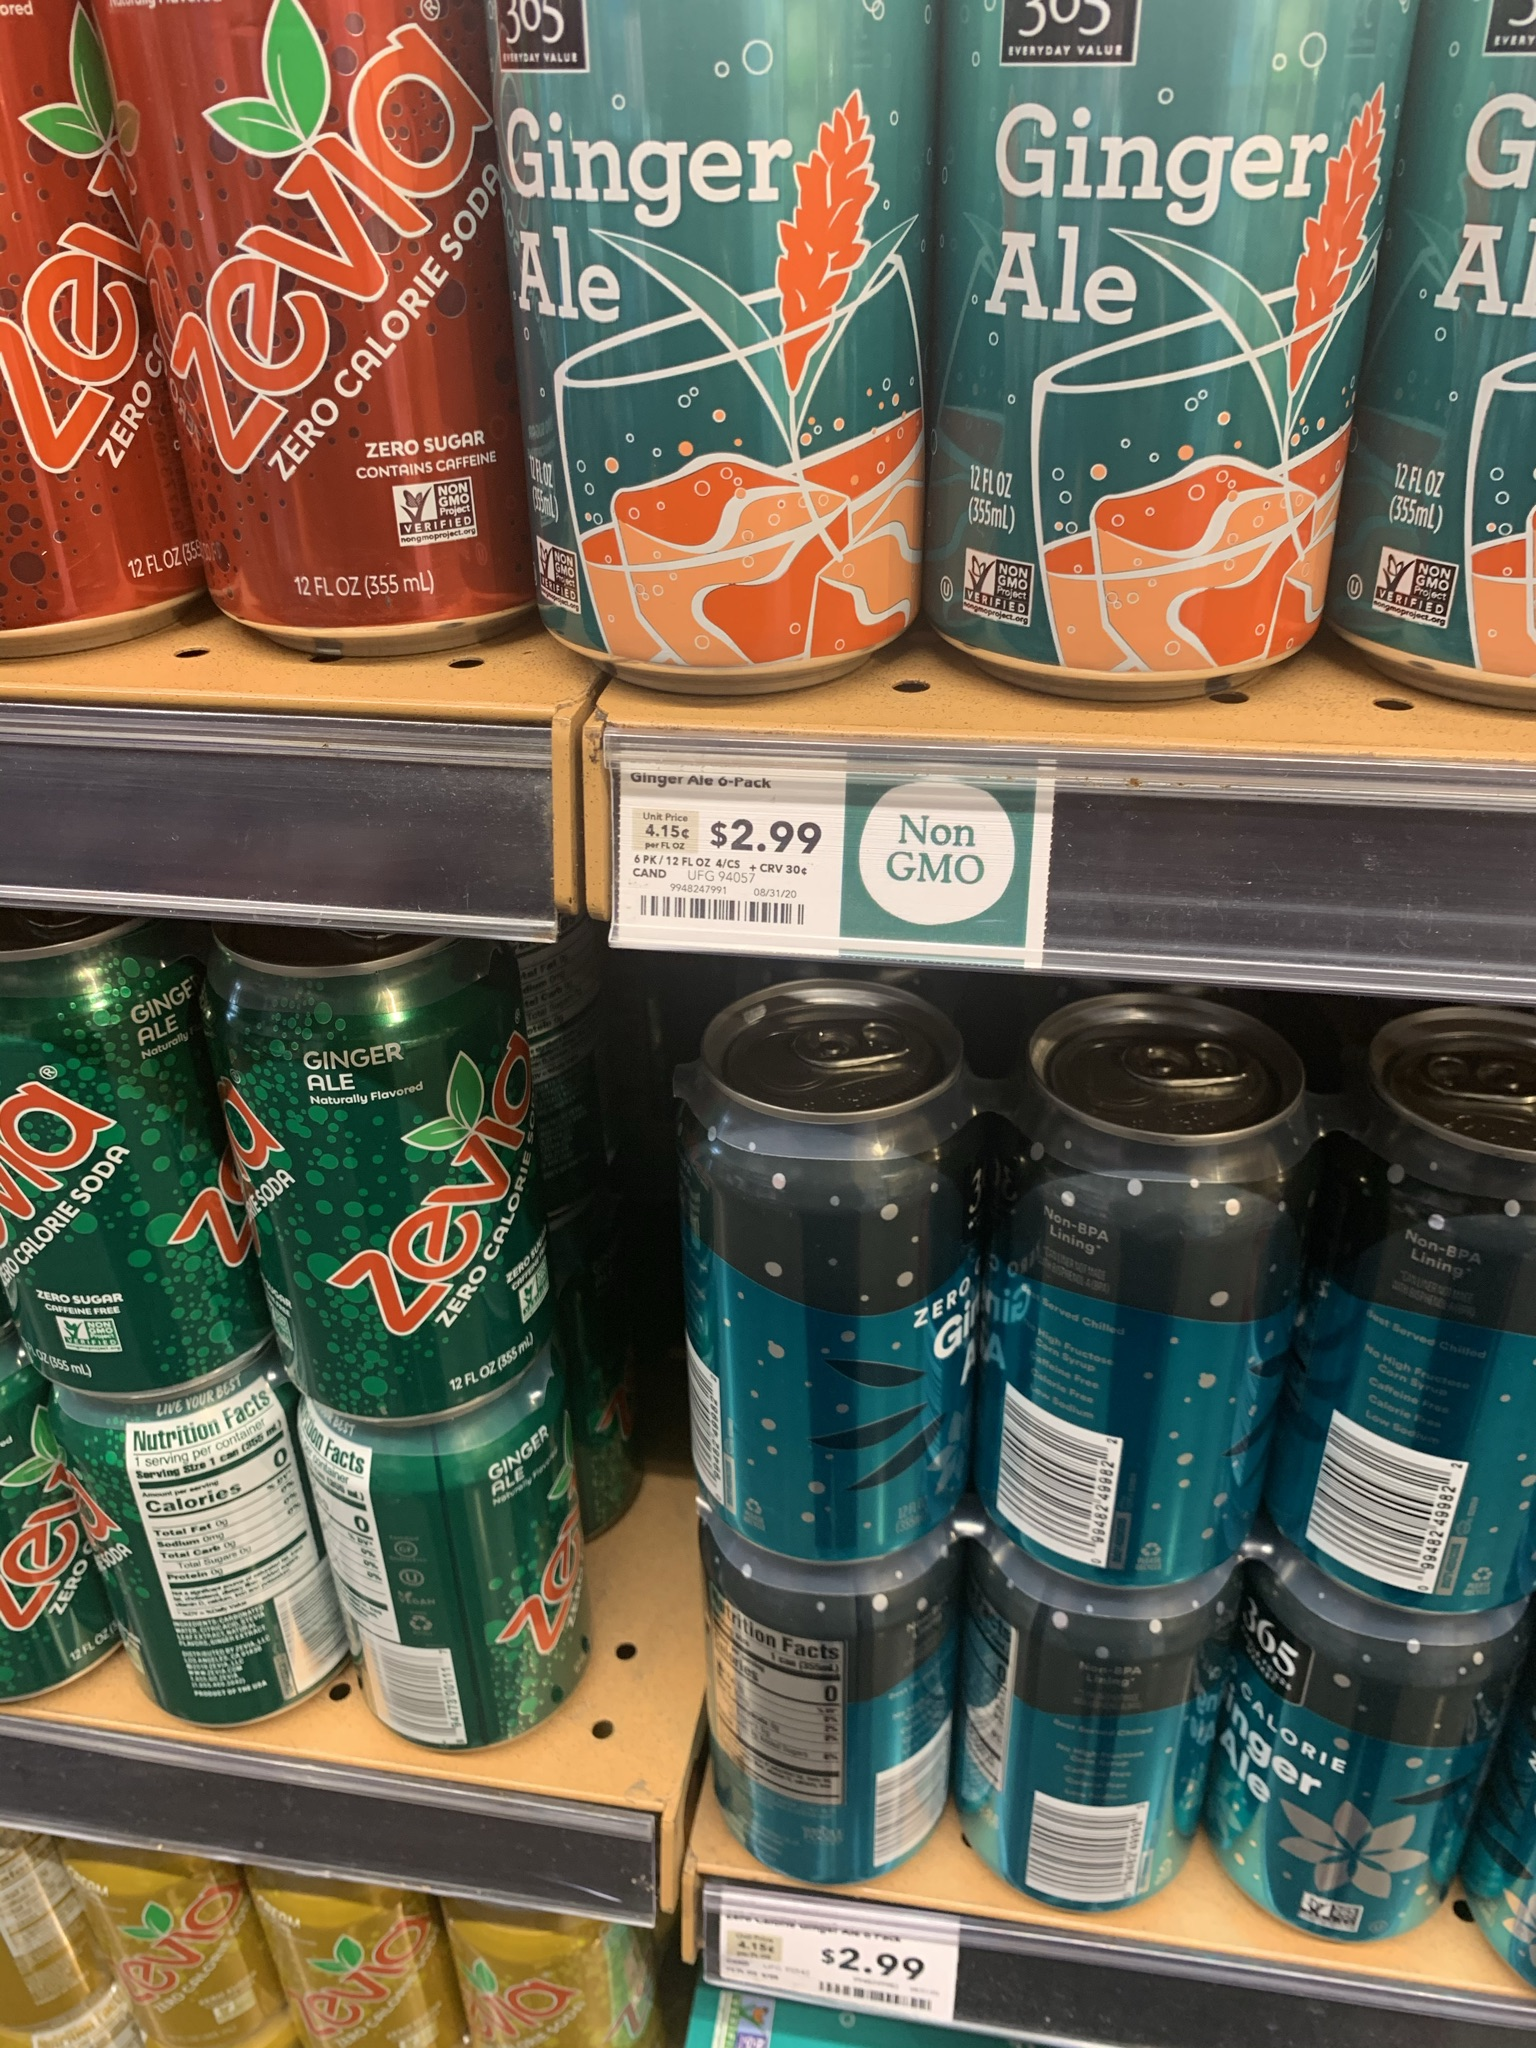ginger ale: (515, 3, 913, 639), (966, 10, 1326, 656), (702, 1071, 958, 1530), (1012, 1051, 1233, 1564), (1344, 1056, 1504, 1664), (978, 1569, 1207, 1909), (1270, 1580, 1471, 1942), (702, 1566, 944, 1861)
zevia soda: (110, 16, 507, 611), (210, 939, 578, 1361), (23, 929, 248, 1374), (56, 1393, 334, 1734), (307, 1405, 603, 1696)
